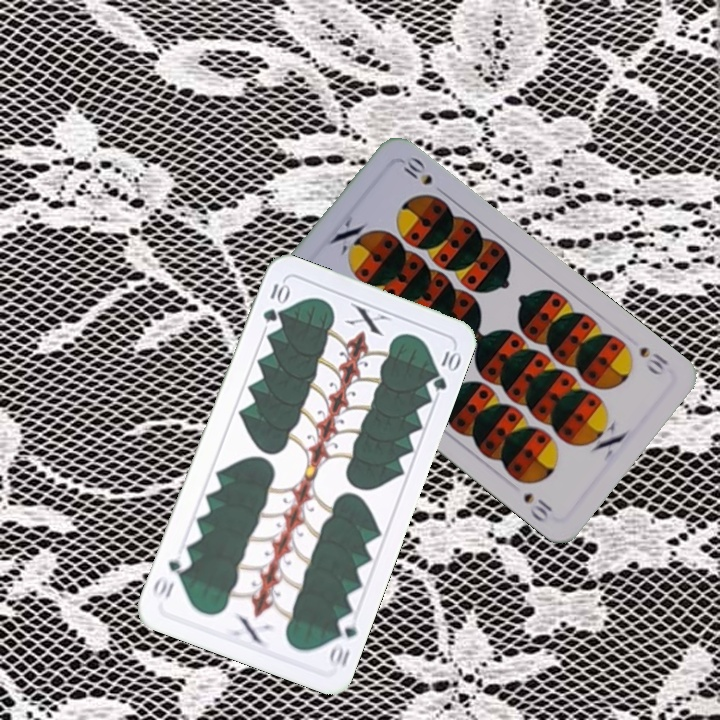G10: (325, 611, 360, 671), (258, 279, 291, 326)
S10: (635, 342, 672, 378)
